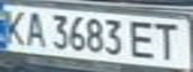3: (103, 16, 130, 56), (45, 11, 69, 51)
6: (66, 14, 87, 53)
8: (84, 15, 106, 55)
A: (21, 8, 48, 47)
E: (127, 17, 163, 61)
K: (0, 4, 30, 46)
T: (151, 19, 187, 62)
